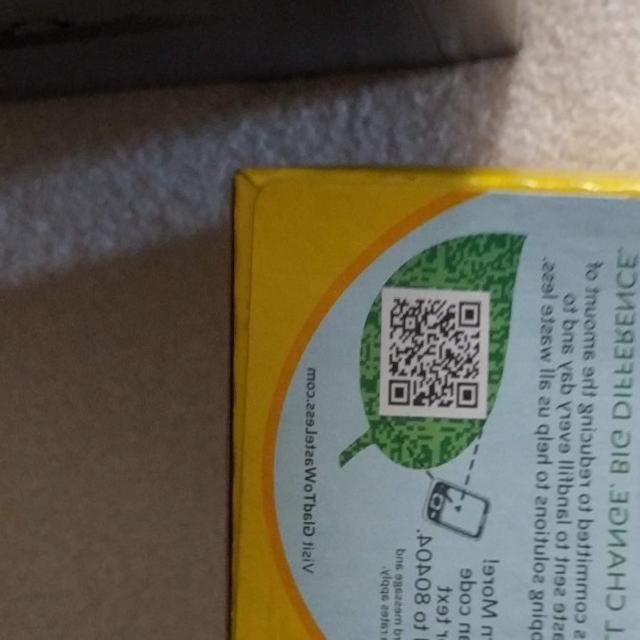qr-code: (371, 274, 505, 430)
